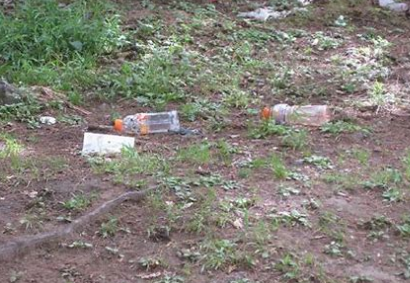garbage: (73, 128, 139, 161), (261, 103, 332, 130), (110, 114, 183, 136)
